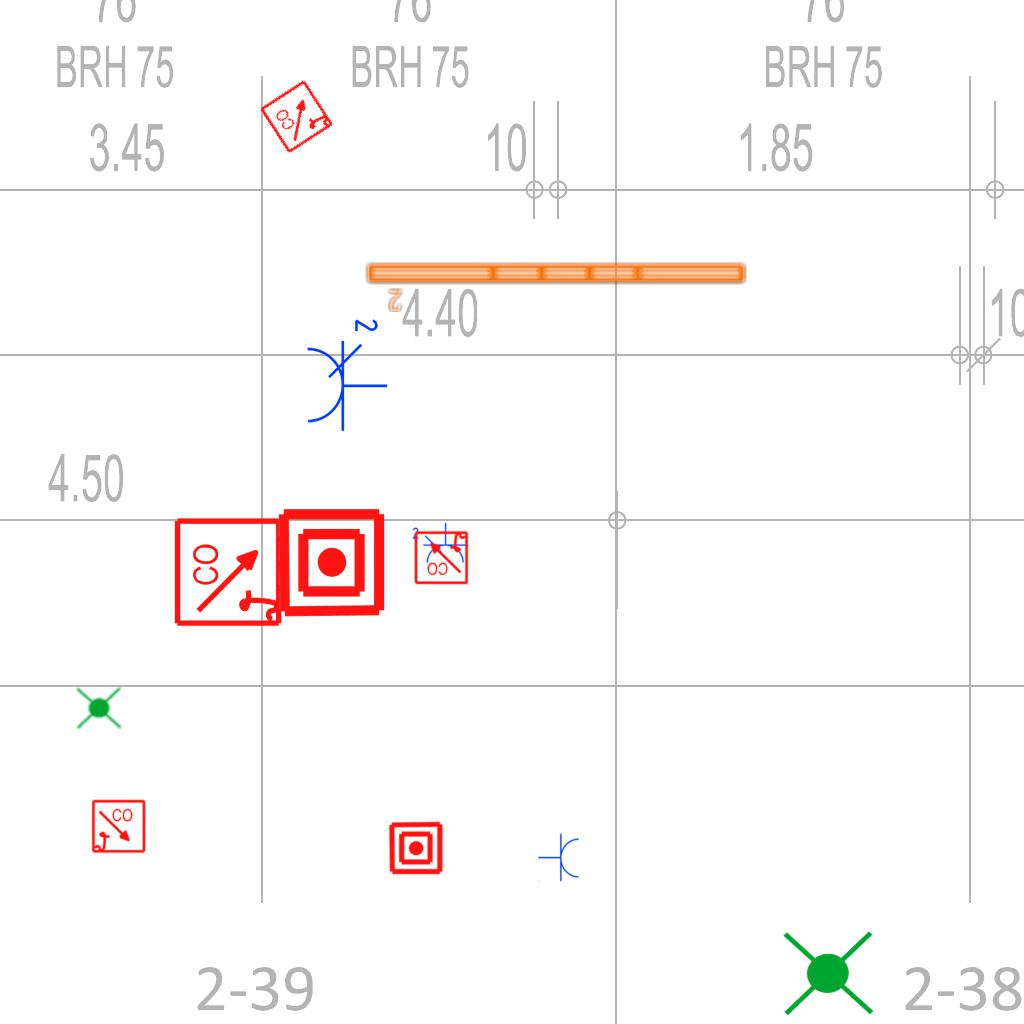Ambulanz_Pendelleuchte_LED: (363, 258, 750, 314)
NAM-Nichtautomatischer_Melder: (275, 506, 388, 619), (388, 820, 444, 876)
Notlichtbaustein_in_Allgemeinbeleuchtug_engebaut_Einbau_(1UG_und_2UG_Aufbauvaria: (778, 923, 878, 1024), (74, 682, 124, 733)
ROA_Rauchmelder_optisch_mit_Signalgeber_(Sockelsirene): (173, 515, 286, 628), (258, 77, 336, 155), (91, 799, 147, 855), (413, 529, 469, 585)
Schukosteckdose_einfach: (538, 833, 581, 883)
Schukosteckdose_mehrfach: (301, 312, 389, 433), (409, 522, 469, 566)
